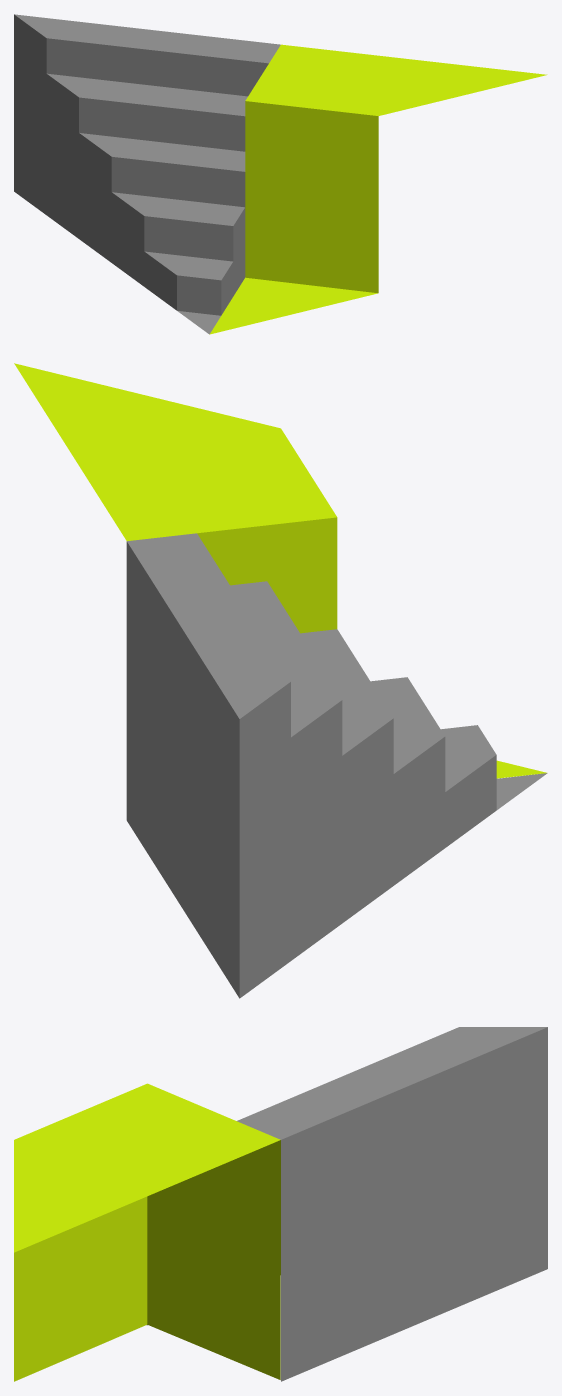
3 renders of one model, top to bottom at view 1: azimuth 30°, elevation 25°; view 2: azimuth 150°, elevation 25°; view 3: azimuth 270°, elevation 25°, orthographic. The views are drawn at different scales.
Visible parts, largest first — view 1: T_s1_0_0; view 2: T_s1_0_0; view 3: T_s1_0_0.
Part boxes in pixels (x1,y1,x2,y2): T_s1_0_0: (14,14,547,334); T_s1_0_0: (14,363,547,998); T_s1_0_0: (14,1027,547,1381).
Size of the model in its own units: 99.79 by 49.91 by 99.81.
